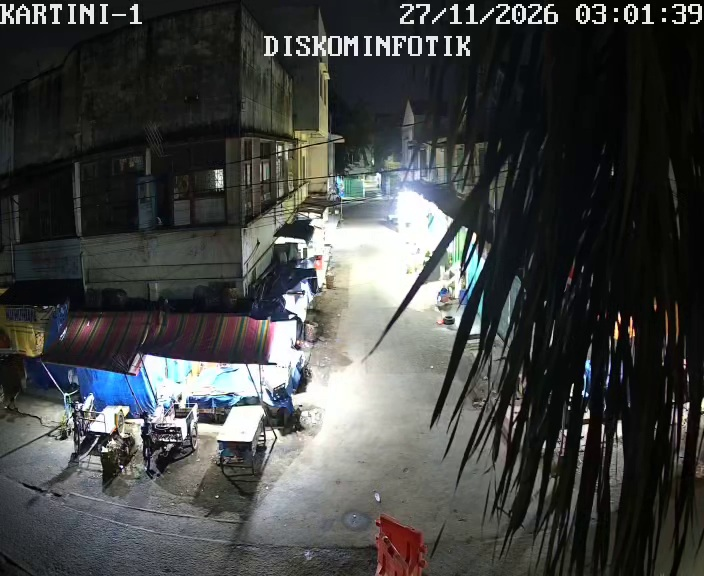Gerobak: (143, 401, 201, 463)
